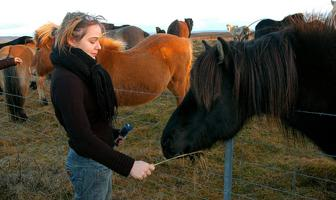person: (50, 12, 155, 200)
